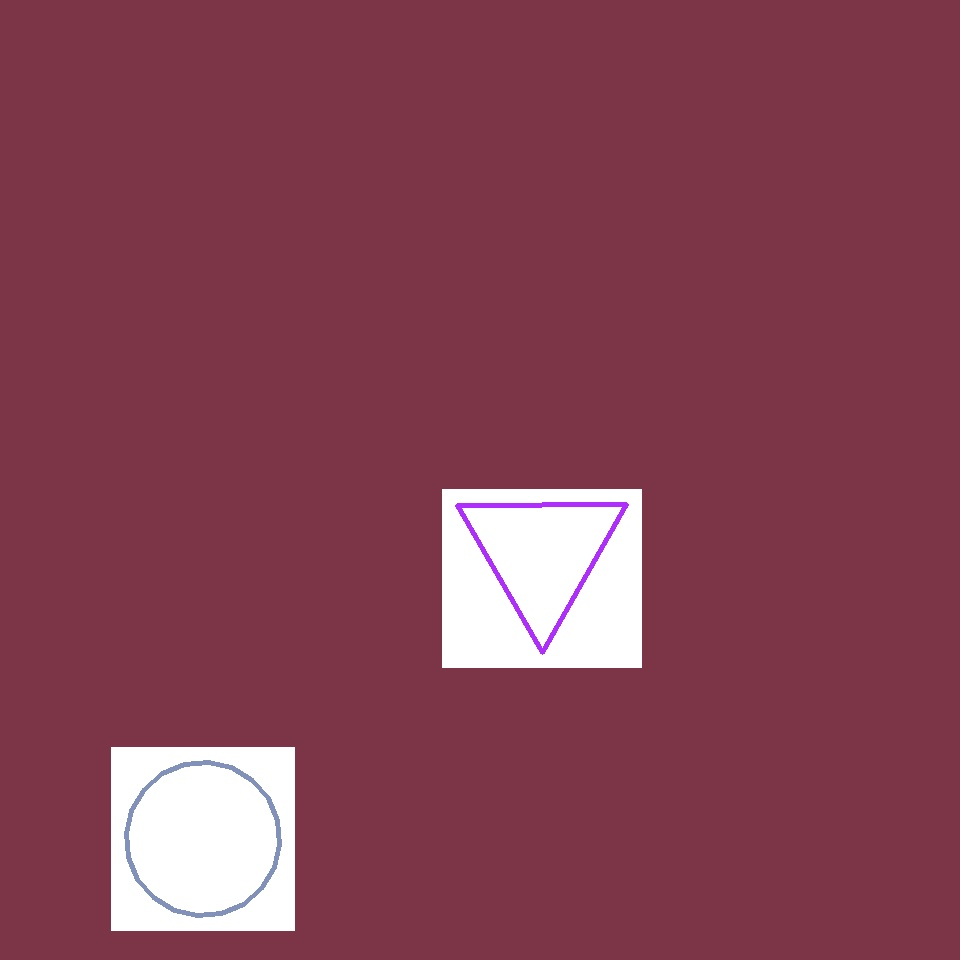circle: (458, 480, 626, 628), (367, 690, 493, 806)
square: (398, 668, 565, 836)
triangle: (126, 762, 280, 916)
